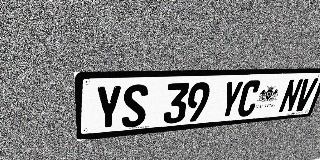3: (163, 83, 190, 124)
9: (184, 82, 212, 122)
C: (236, 80, 263, 117)
N: (278, 79, 304, 113)
S: (121, 84, 149, 128)
V: (292, 78, 319, 112)
Y: (95, 85, 122, 131), (217, 81, 244, 119)
